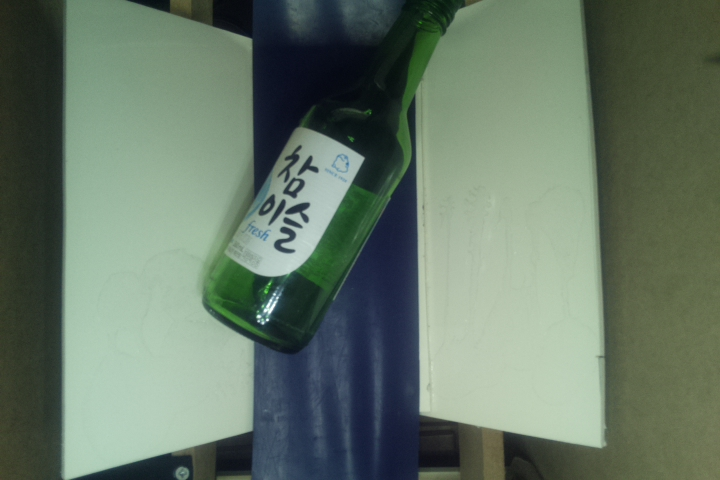soju: (202, 1, 466, 349)
